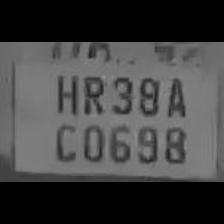0: (79, 119, 105, 163)
3: (107, 68, 135, 116)
6: (106, 121, 132, 165)
8: (134, 70, 162, 118), (161, 122, 187, 166)
9: (134, 122, 158, 166)
A: (162, 72, 188, 118)
C: (51, 118, 79, 164)
H: (51, 68, 80, 116)
R: (79, 68, 105, 114)
